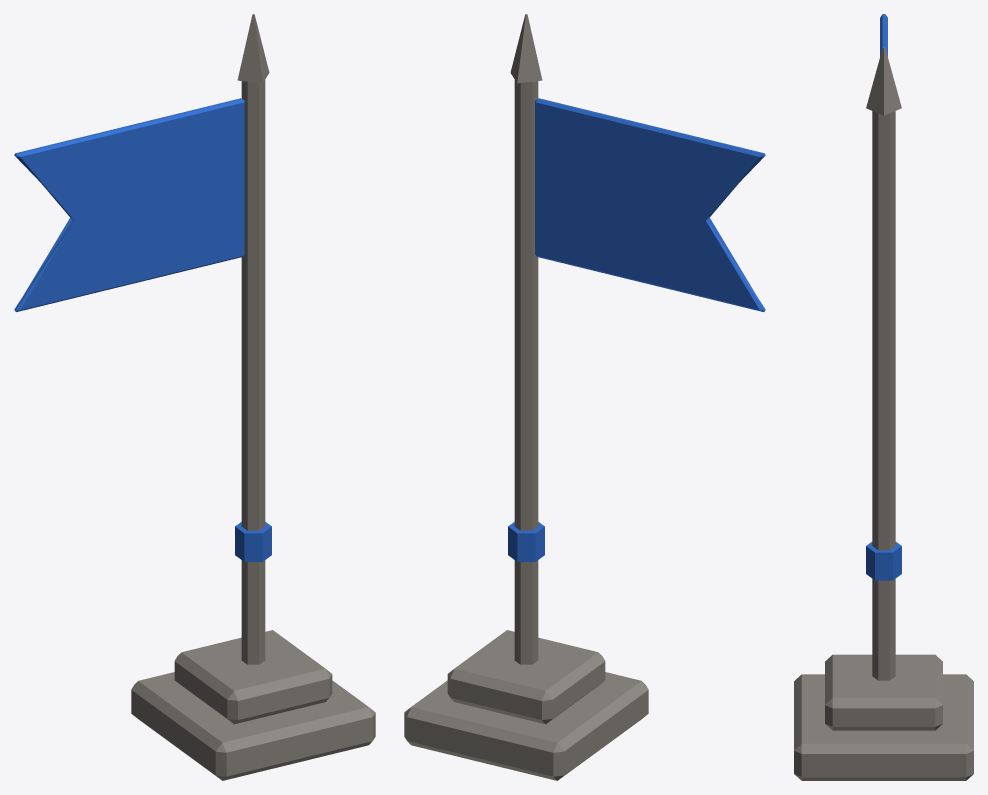
Rendered from rally_flag.obj.
The picture shows the model from 3 angles, left to right: view 1: azimuth 30°, elevation 25°; view 2: azimuth 150°, elevation 25°; view 3: azimuth 270°, elevation 25°; orthographic projection. The views are drawn at different scales.
Visible parts, largest first — view 1: rally_flag; view 2: rally_flag; view 3: rally_flag.
Boxes of the visible parts, left/top/right/bottom form: rally_flag: left=14, top=14, right=375, bottom=780; rally_flag: left=404, top=14, right=765, bottom=780; rally_flag: left=794, top=14, right=973, bottom=780.
Bounding box in the file's own units: 1.39 × 3 × 0.7.
